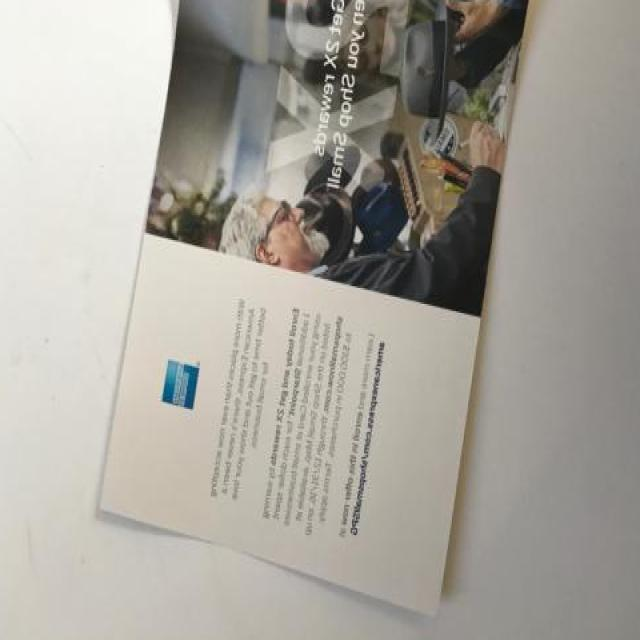kertas: (94, 0, 530, 626)
